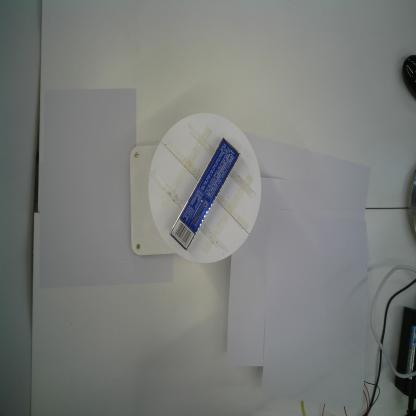Personal Hygiene: (168, 137, 240, 252)
